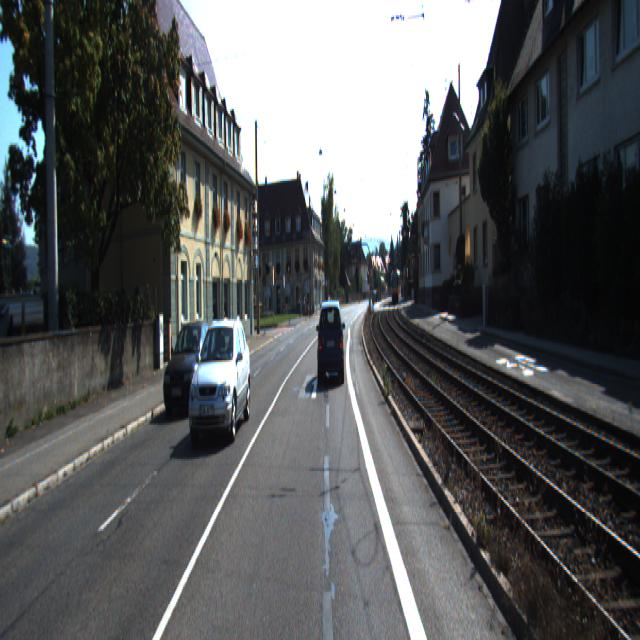Car: (190, 315, 252, 446), (162, 318, 217, 418), (317, 298, 345, 386)
